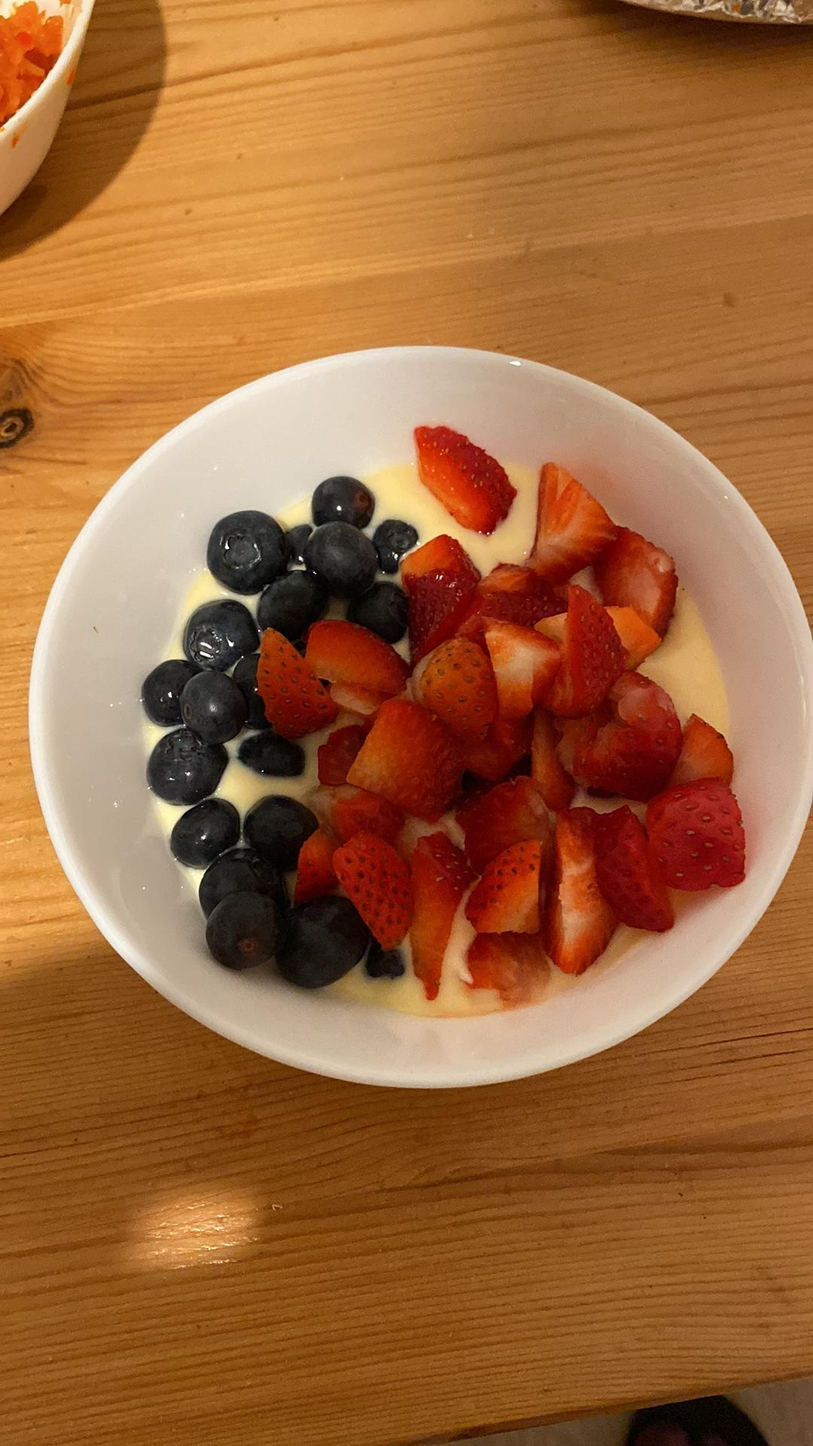blueberry: (282, 897, 365, 986), (206, 503, 288, 586), (148, 725, 226, 801), (206, 891, 280, 968), (306, 519, 380, 596), (181, 599, 255, 673), (251, 569, 324, 640), (181, 672, 246, 744), (199, 845, 272, 906), (171, 798, 236, 863), (247, 797, 315, 859), (343, 578, 410, 638), (138, 656, 194, 722), (309, 474, 374, 526), (238, 732, 304, 781), (372, 512, 417, 572)
strawberry: (560, 660, 687, 797), (352, 704, 460, 815), (646, 772, 743, 892), (402, 825, 468, 1000), (553, 801, 621, 966), (594, 803, 673, 943), (418, 423, 507, 537), (525, 460, 611, 574), (460, 766, 559, 860), (335, 831, 415, 944), (259, 625, 338, 738), (602, 518, 673, 635), (482, 617, 556, 725), (548, 591, 612, 715), (405, 538, 469, 661), (305, 615, 409, 690), (413, 641, 492, 737), (457, 927, 548, 1009), (467, 844, 542, 940), (479, 558, 559, 619), (672, 722, 739, 789)
